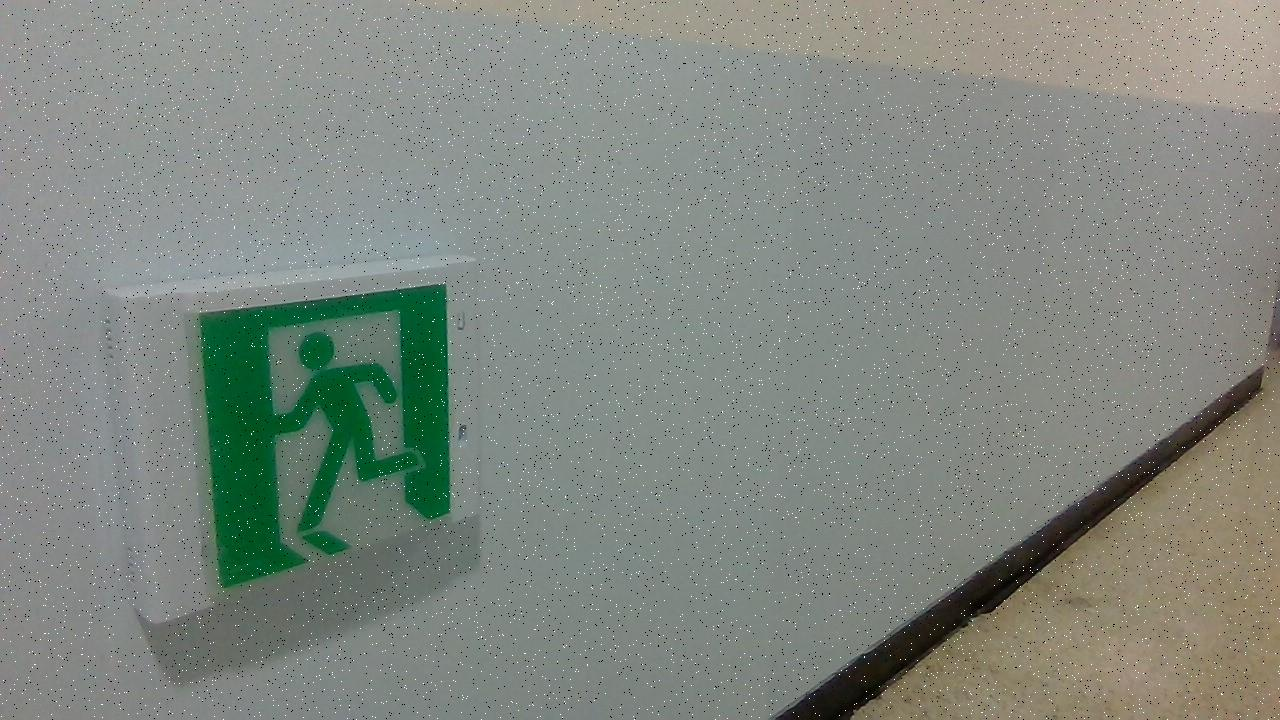emergency_exit: (196, 282, 452, 589)
